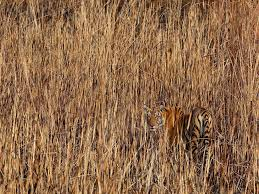Tiger: (132, 98, 226, 164)
